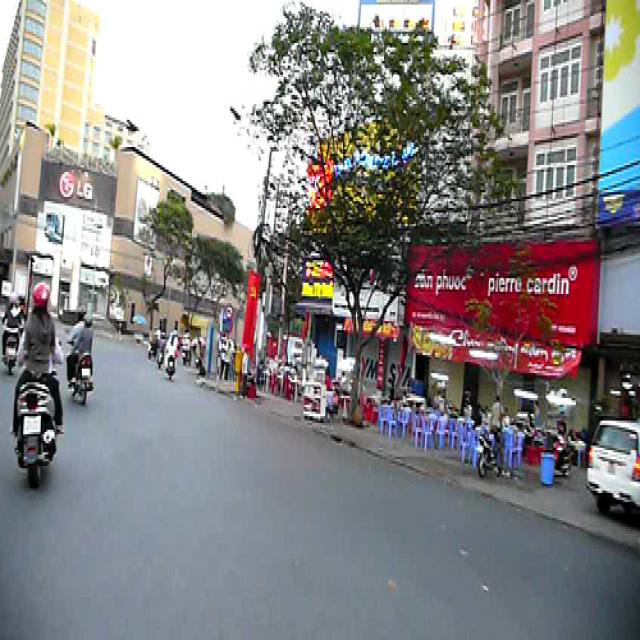motor: (14, 377, 59, 487), (73, 353, 94, 405), (3, 325, 18, 374), (169, 354, 174, 379)
